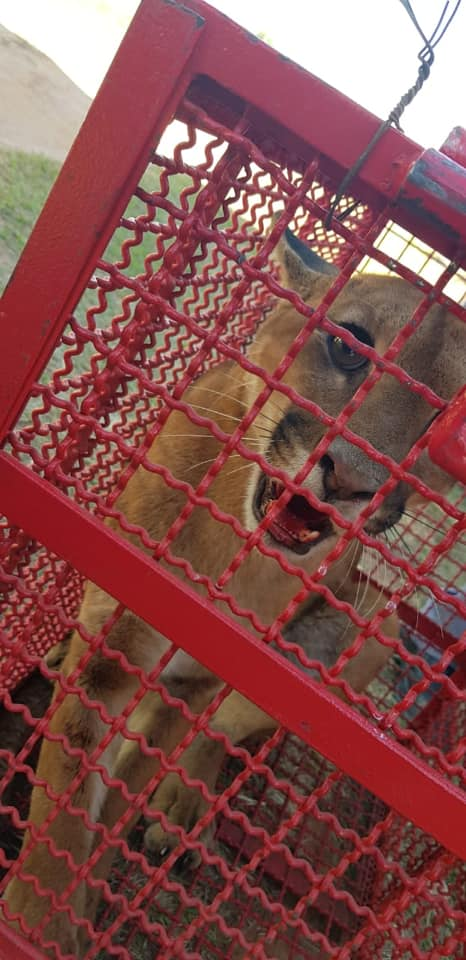OncaParda: (38, 210, 464, 919)
